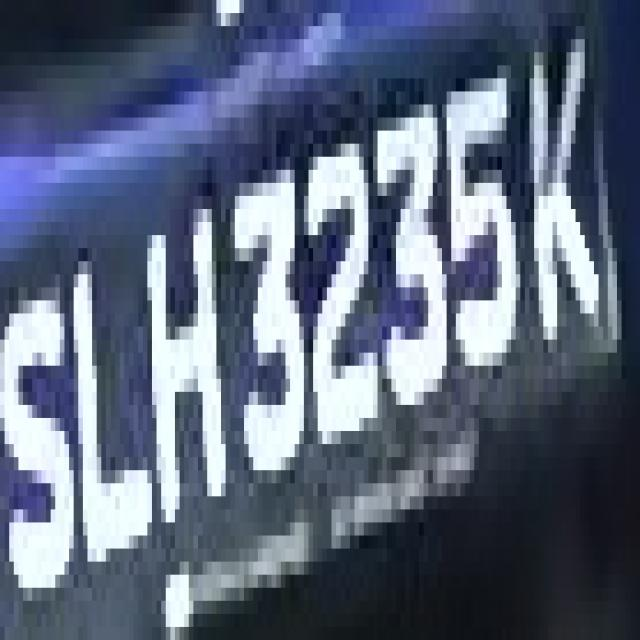2: (290, 130, 387, 510)
3: (364, 78, 446, 470), (221, 157, 304, 509)
5: (437, 39, 516, 418)
H: (138, 170, 244, 522)
K: (511, 0, 608, 366)
L: (60, 235, 156, 588)
S: (0, 248, 74, 640)
